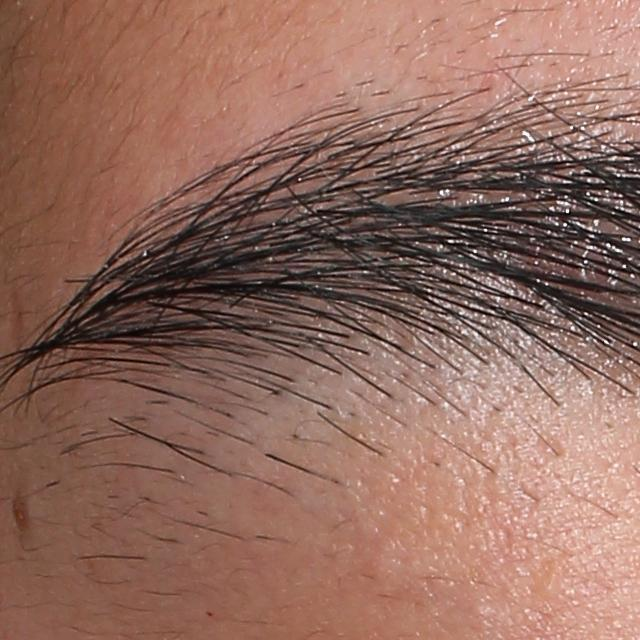nevus: (7, 495, 30, 535)
